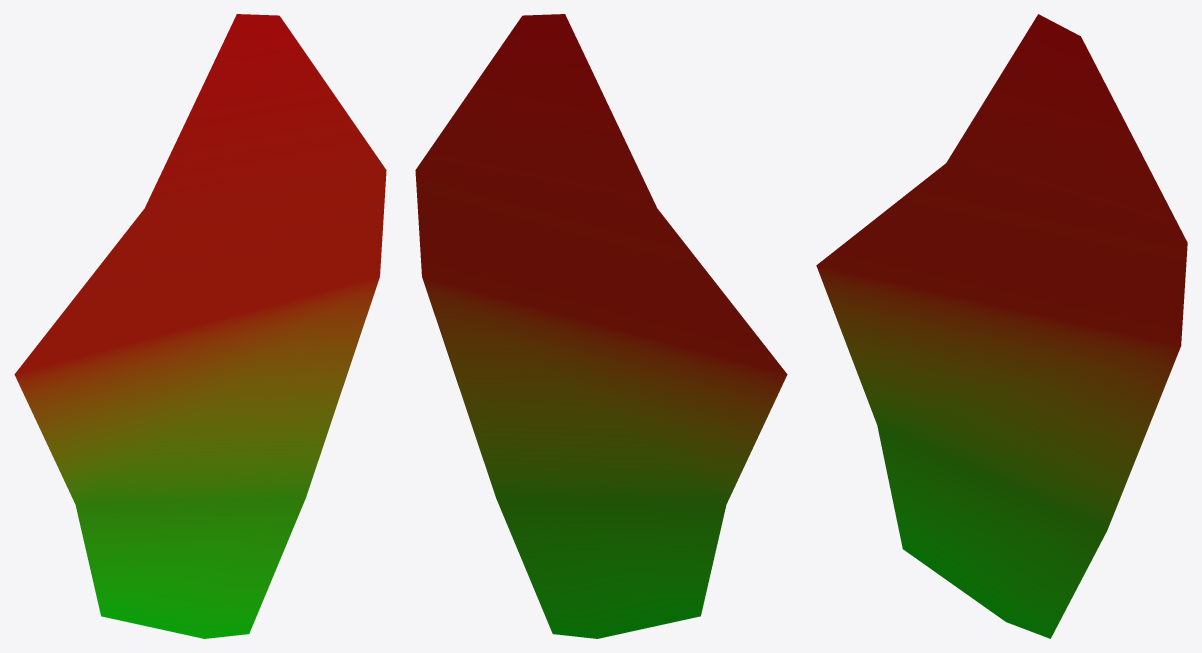
File: Var3_LOD4.fbx
3 renders of one model, left to right at view 1: azimuth 30°, elevation 25°; view 2: azimuth 150°, elevation 25°; view 3: azimuth 330°, elevation 25°, orthographic.
Parts seen in each view (by area): view 1: _0a11_Var3_LOD4; view 2: _0a11_Var3_LOD4; view 3: _0a11_Var3_LOD4.
Part boxes in pixels (x1,y1,x2,y2): _0a11_Var3_LOD4: (14, 14, 386, 638); _0a11_Var3_LOD4: (415, 14, 787, 638); _0a11_Var3_LOD4: (816, 14, 1187, 638).
Size of the model in its own units: 141 by 226 by 4.2e-05.
